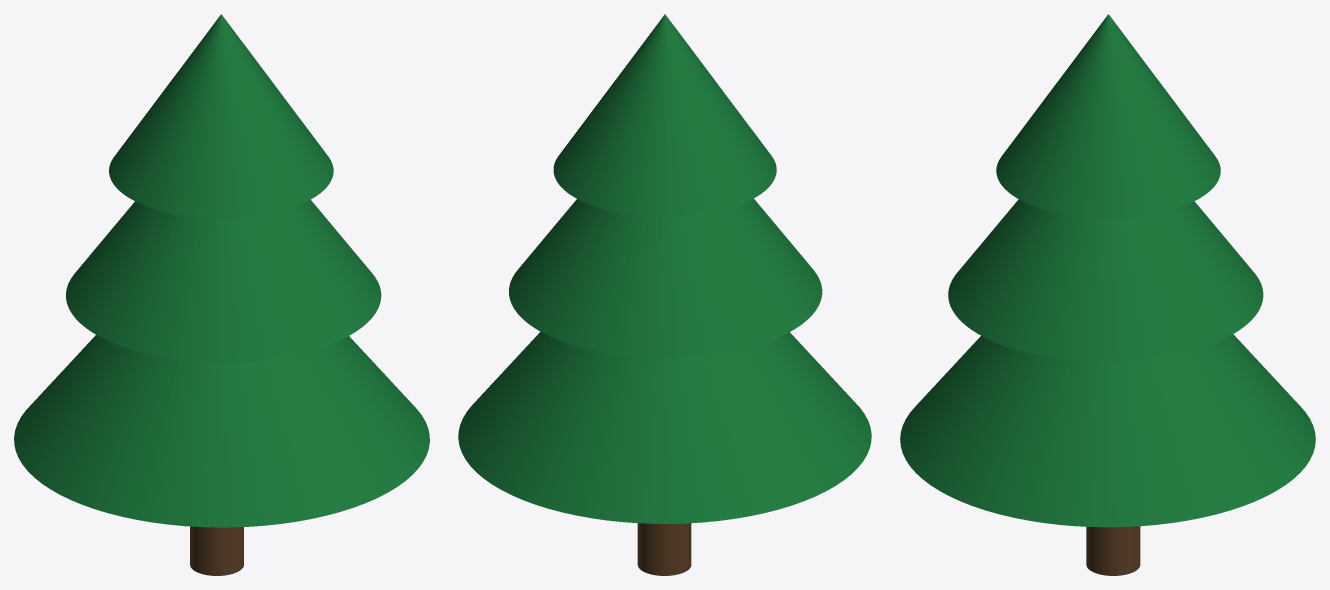
File: Tree.fbx
The picture shows the model from 3 angles, left to right: view 1: azimuth 30°, elevation 25°; view 2: azimuth 150°, elevation 25°; view 3: azimuth 270°, elevation 25°; orthographic projection.
Parts seen in each view (by area): view 1: root (×4); view 2: root (×4); view 3: root (×4).
Boxes of the visible parts, left/top/right/bottom form: root (×4): left=14, top=14, right=429, bottom=575; root (×4): left=458, top=14, right=871, bottom=575; root (×4): left=900, top=14, right=1315, bottom=575.
Bounding box in the file's own units: 0.2912 × 0.4262 × 0.2912.
4 materials, 4 textured.
